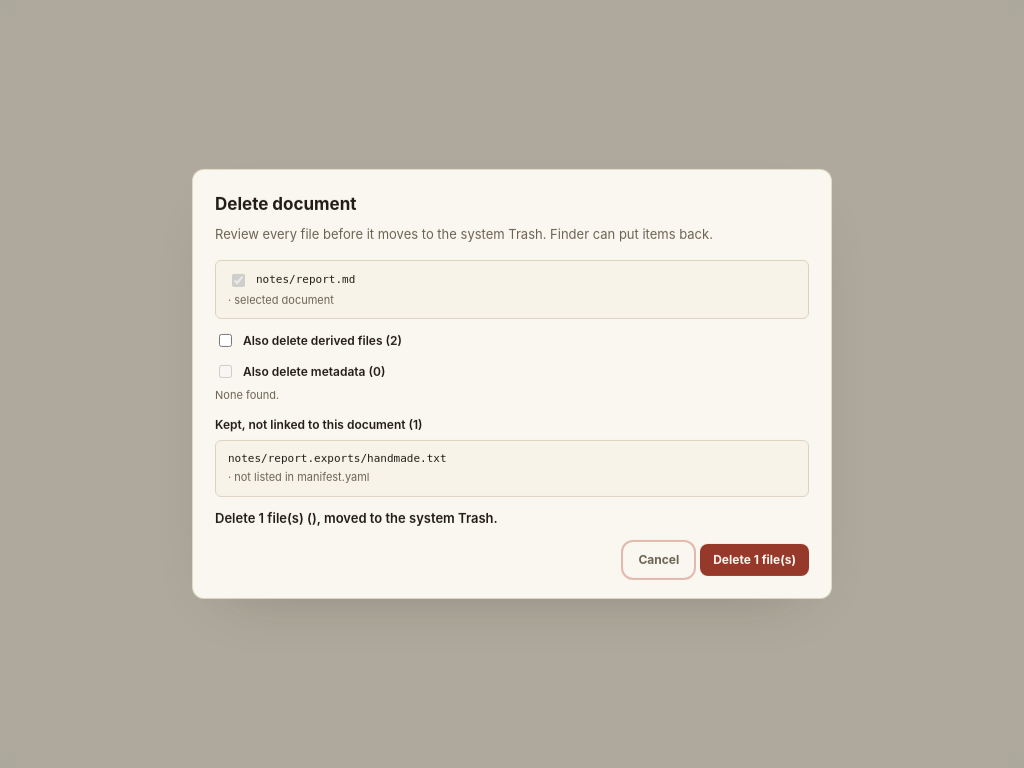
Scenario: DocumentDeleteDialog › re-plans on a stale plan, keeps unchecked items and deletes nothing
The width and height of the screenshot is (1024, 768).
Click the switch labelled "Also delete derived files (2)".
click(226, 341)  # box [219,334,232,347]
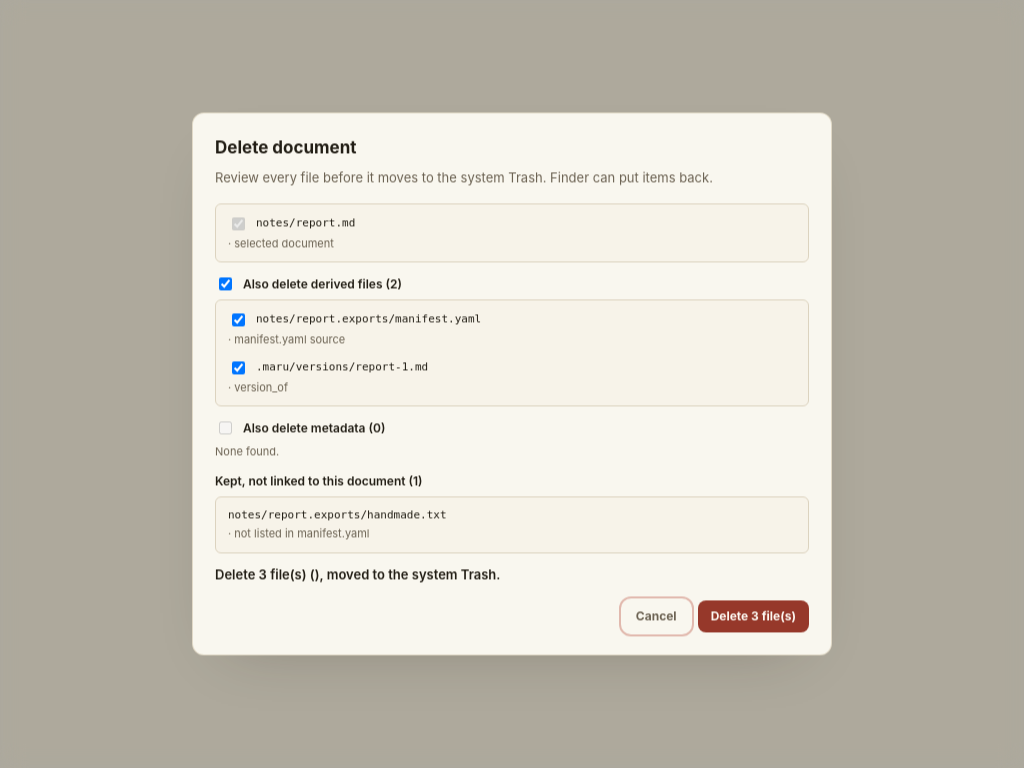
Click the checkbox labelled "notes/report.exports/manifest.yaml".
click(238, 320)  # box [232,314,245,327]
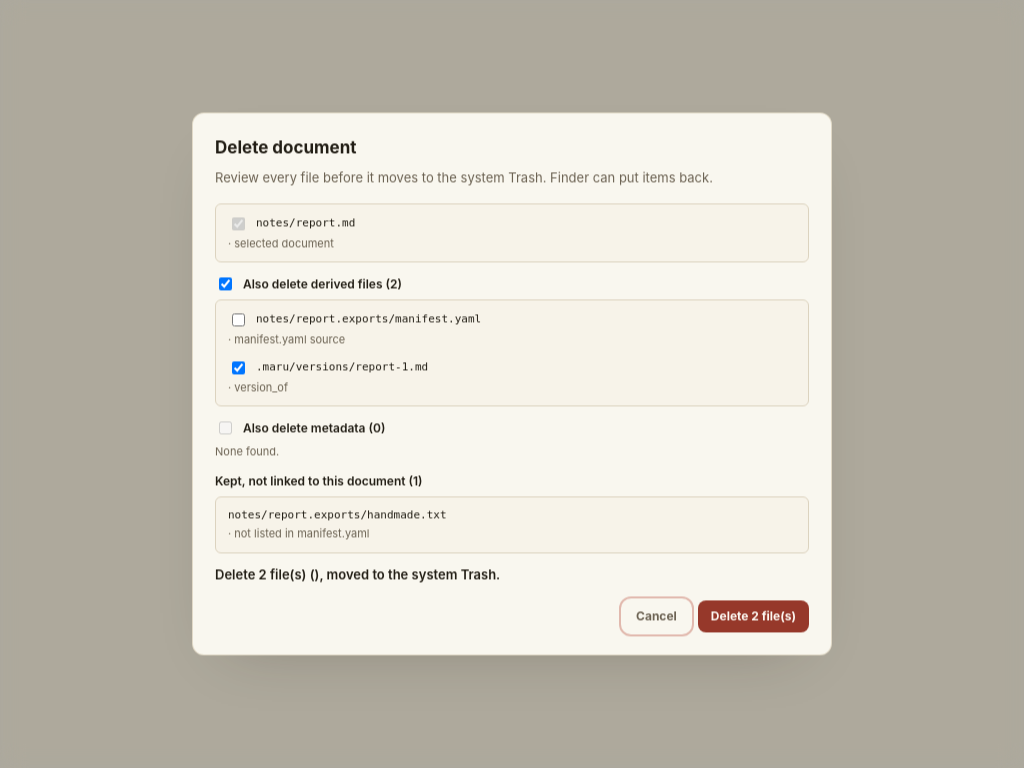
Click the button "Delete 2 file(s)".
click(753, 617)  # box [698,601,809,633]
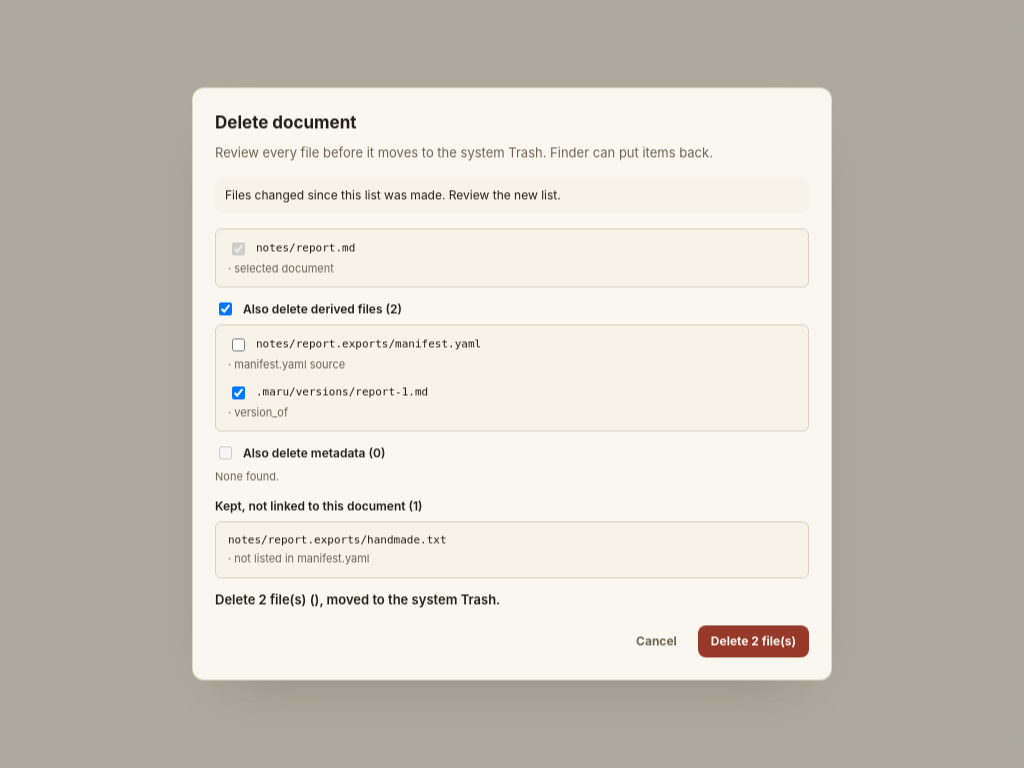
Expected: the text "Files changed since this list was made" is shown, [225,187,561,202]
